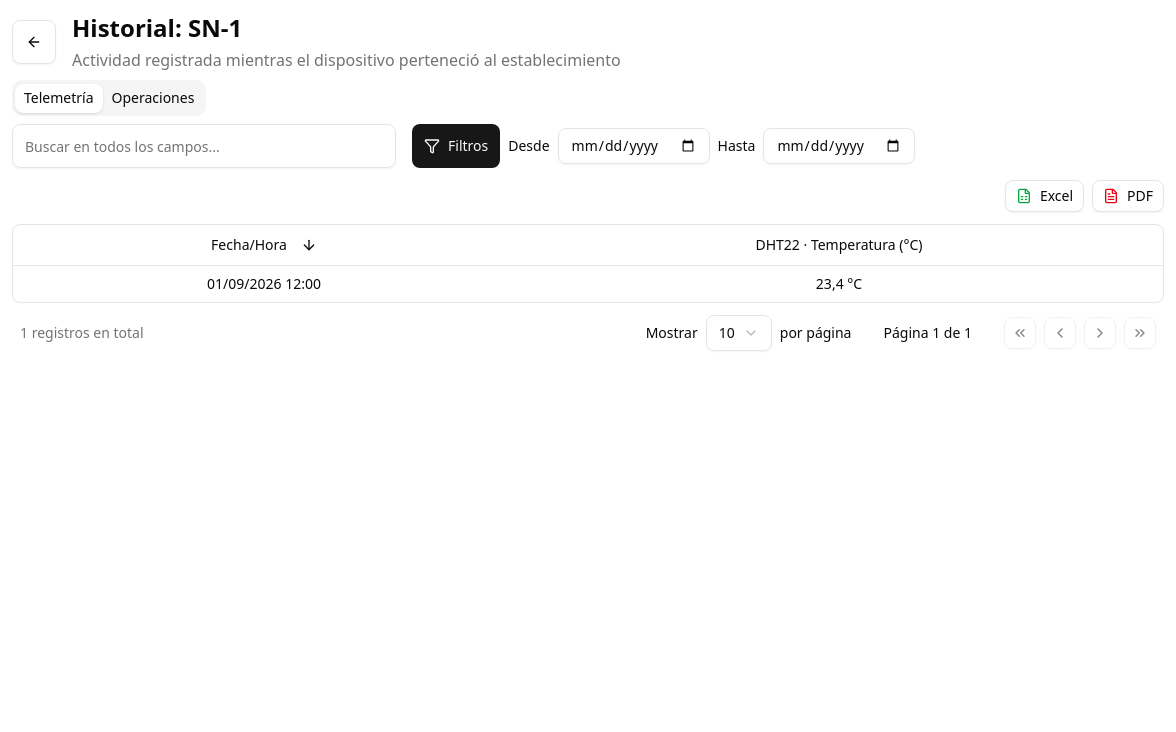
Scenario: device history page › uses visible telemetry metadata when catalog permission is unavailable
The image size is (1176, 732).
Click the button "Filtros".
click(456, 146)  # box x1=412 y1=124 x2=500 y2=168
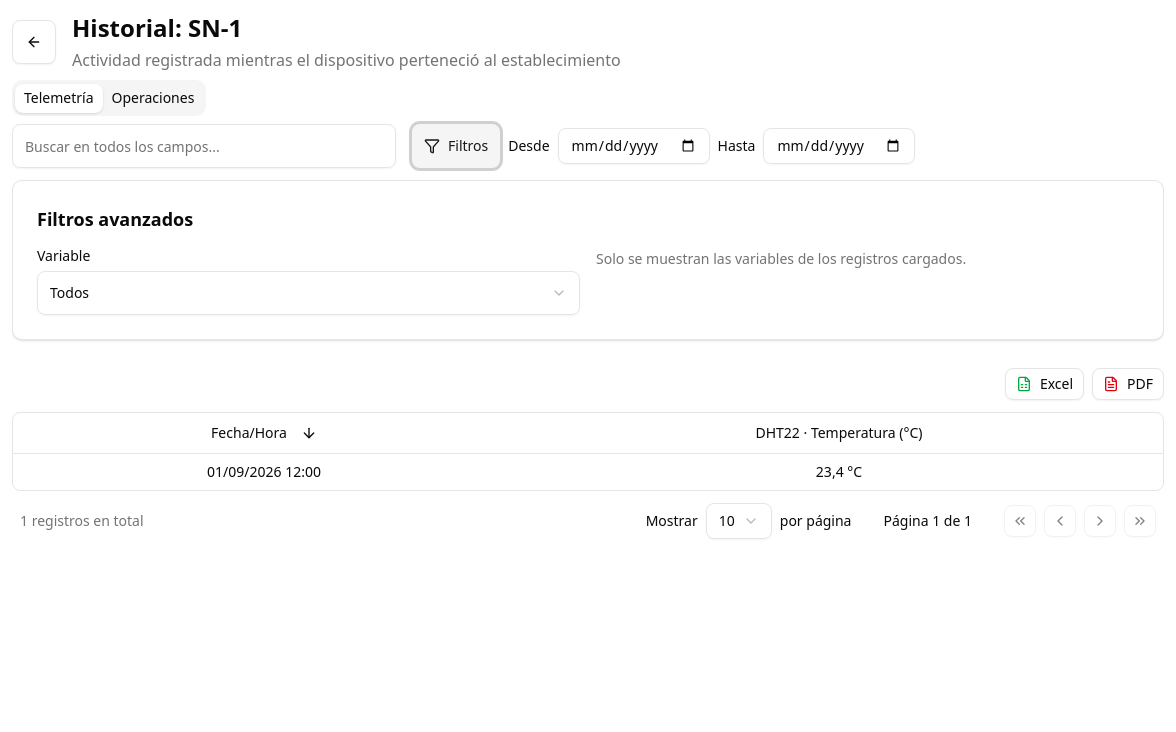
Result: the text "Solo se muestran las variables de los registros cargados." is shown at x1=596 y1=249 x2=966 y2=268
Click the dropdown named "Variable".
click(70, 292)  # box x1=37 y1=271 x2=580 y2=315
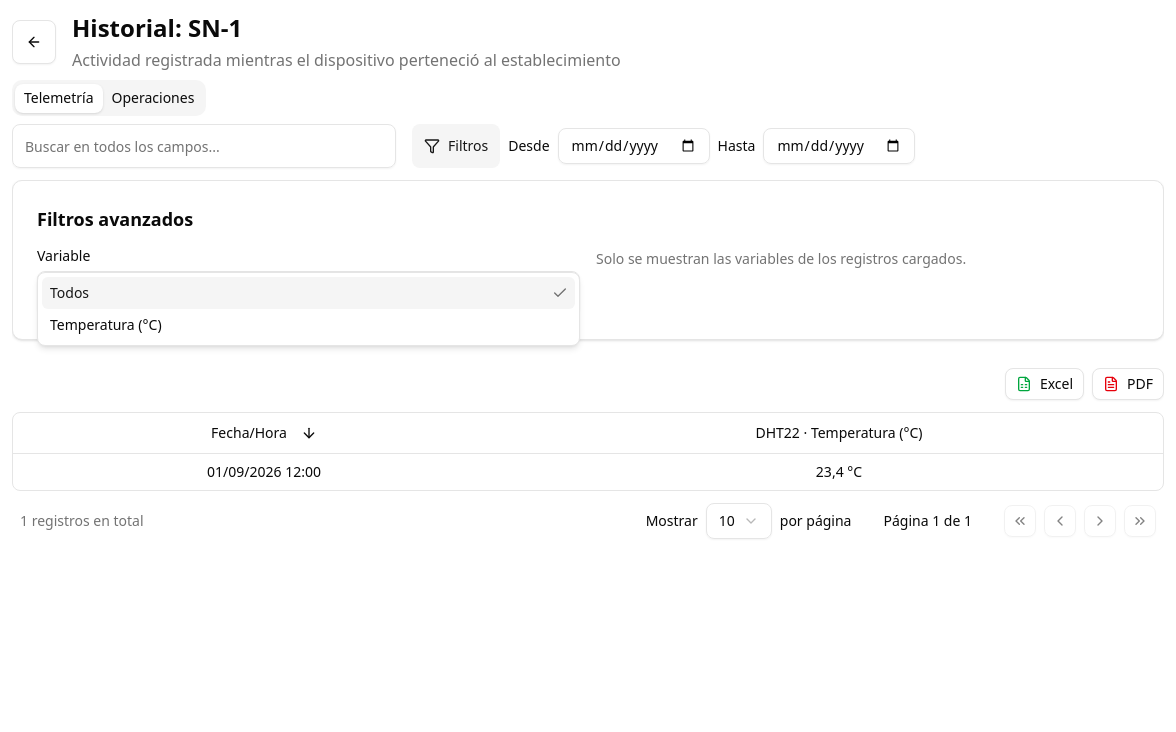
Result: the option "Temperatura (°C)" is shown at x1=50 y1=315 x2=162 y2=334
